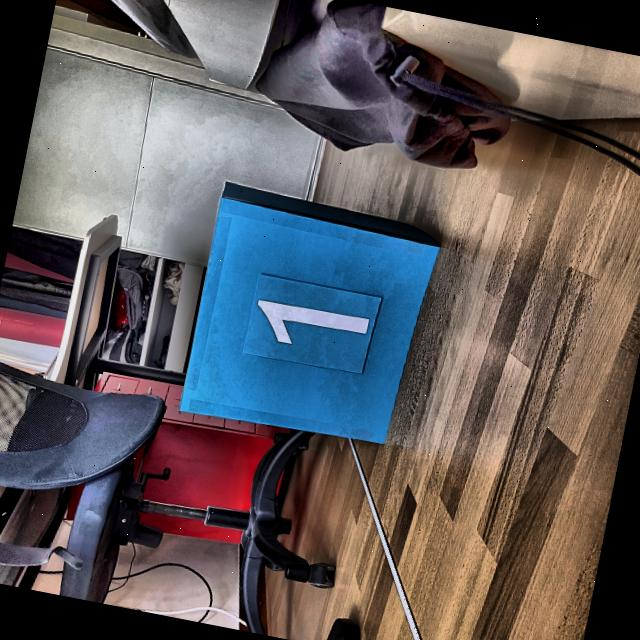blue box: (177, 182, 440, 456)
one: (248, 289, 376, 363)
